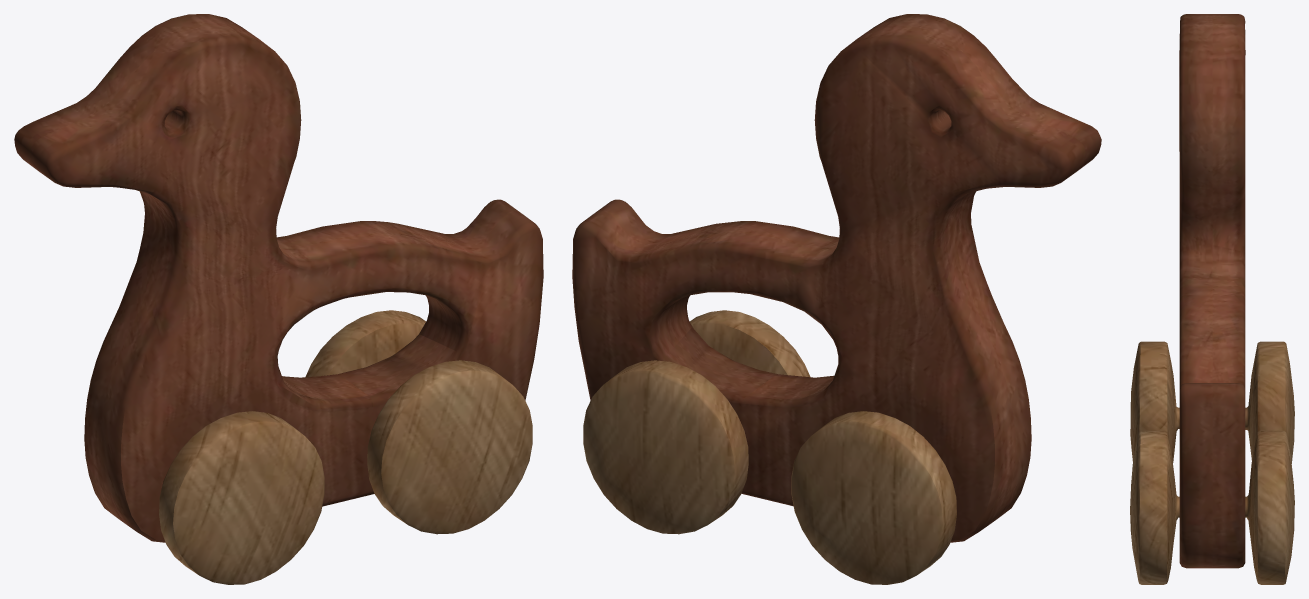
The model's file is entchen.glb.
3 renders of one model, left to right at view 1: azimuth 30°, elevation 25°; view 2: azimuth 150°, elevation 25°; view 3: azimuth 270°, elevation 25°, orthographic. The views are drawn at different scales.
Parts seen in each view (by area): view 1: DUCK; view 2: DUCK; view 3: DUCK.
Part boxes in pixels (x1,y1,x2,y2): DUCK: [14, 14, 543, 584]; DUCK: [572, 14, 1101, 584]; DUCK: [1130, 14, 1294, 584].
Size of the model in its own units: 562 by 571 by 184.
1 material, 1 textured.
